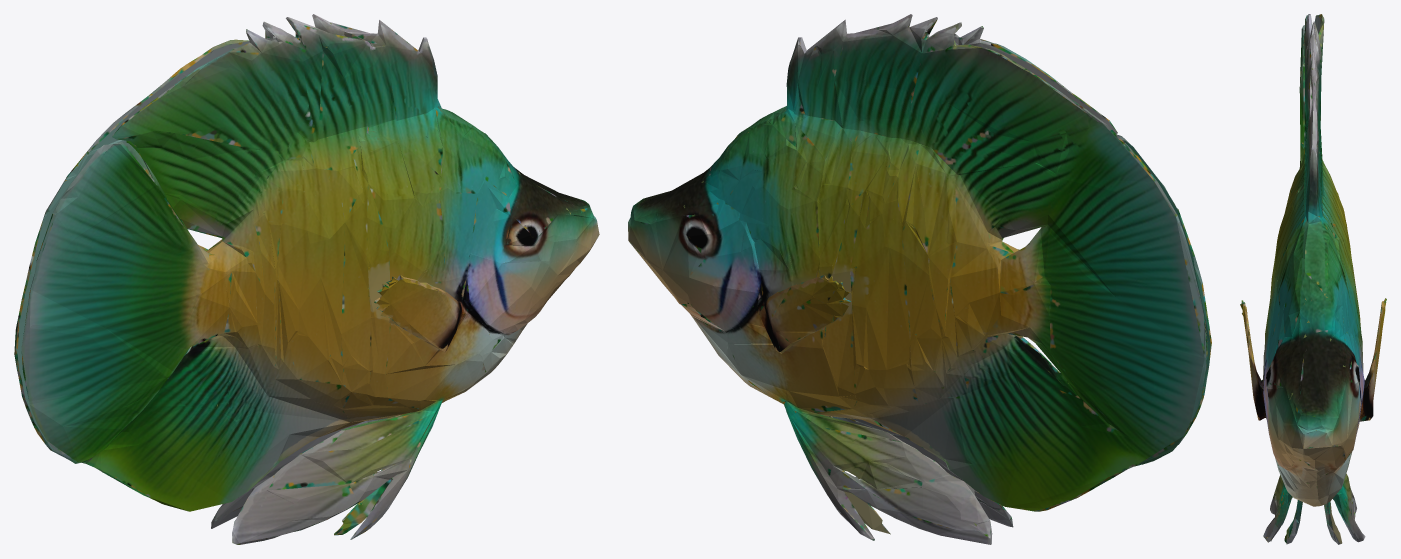
Rendered from fish_0033_smpl23_resized.glb.
3 views of the same model, side by side, from view 1: azimuth 30°, elevation 25°; view 2: azimuth 150°, elevation 25°; view 3: azimuth 270°, elevation 25° (orthographic). The views are drawn at different scales.
Parts seen in each view (by area): view 1: world; view 2: world; view 3: world.
Boxes of the visible parts, box(x1,y1,x2,y2) form: world: box(14, 14, 599, 544); world: box(628, 14, 1211, 544); world: box(1240, 14, 1386, 544).
Bounding box in the file's own units: 1.99 × 1.7 × 0.4617.
Materials: 1 (1 with a texture image).
